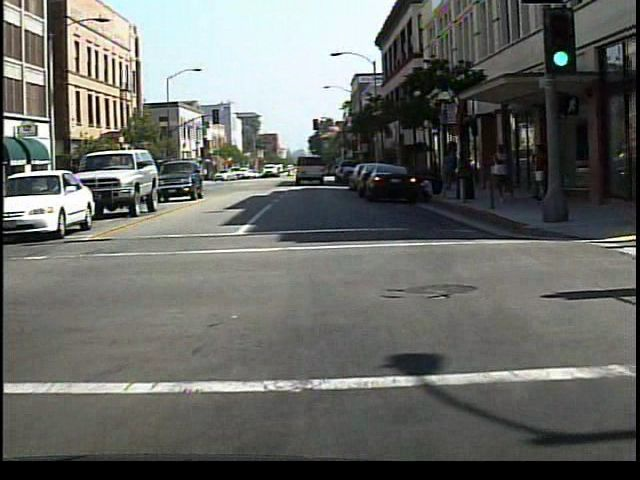person: (489, 138, 523, 210), (438, 144, 461, 198)
